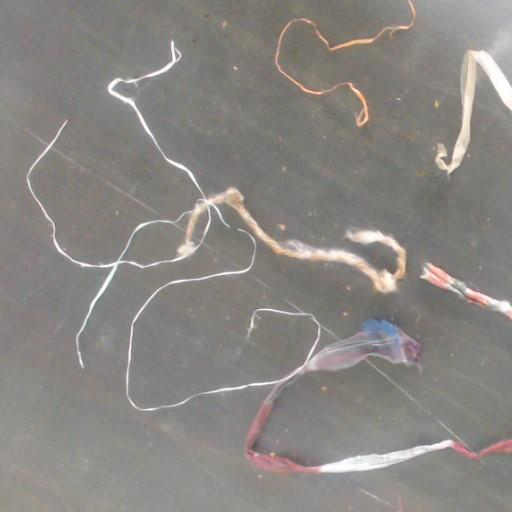cloth: (246, 320, 511, 472), (421, 263, 511, 320)
conveyor belt: (124, 222, 181, 264)
jute: (177, 187, 405, 293)
thread: (26, 120, 191, 368), (125, 228, 321, 411), (107, 40, 229, 253), (274, 0, 415, 95), (435, 50, 511, 175), (343, 81, 368, 126)
